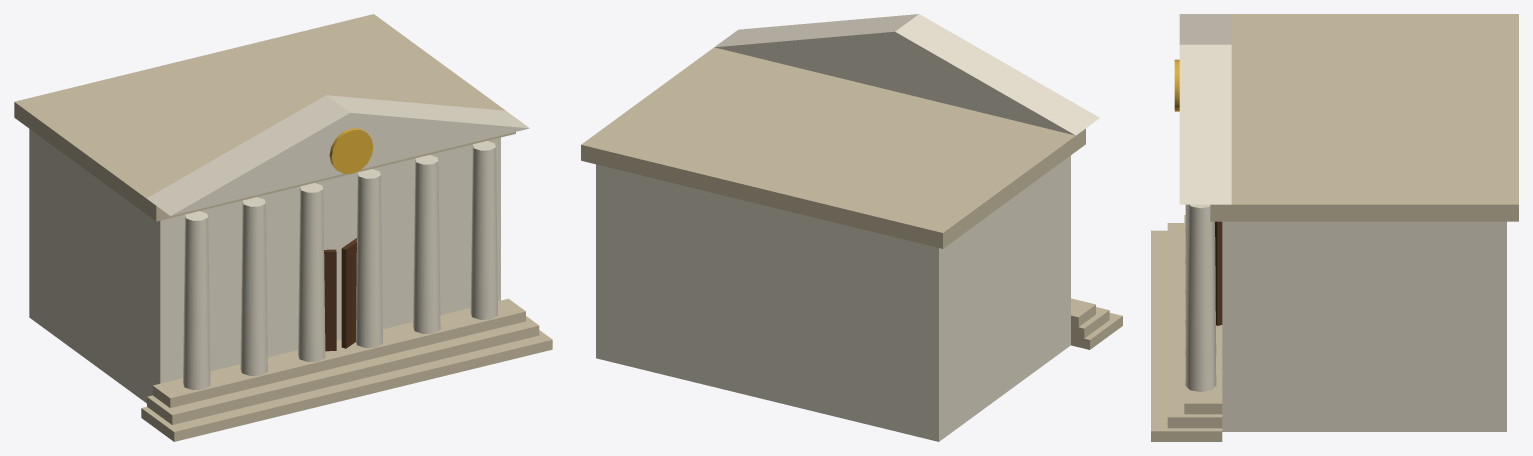
The model's file is bank.glb.
3 views of the same model, side by side, from view 1: azimuth 30°, elevation 25°; view 2: azimuth 150°, elevation 25°; view 3: azimuth 270°, elevation 25° (orthographic). The views are drawn at different scales.
Visible parts, largest first — view 1: bank; view 2: bank; view 3: bank.
Boxes of the visible parts, box(x1,y1,x2,y2) form: bank: box(14, 14, 552, 441); bank: box(581, 14, 1122, 441); bank: box(1151, 14, 1518, 441).
Size of the model in its own units: 20 by 13.8 by 15.5.
